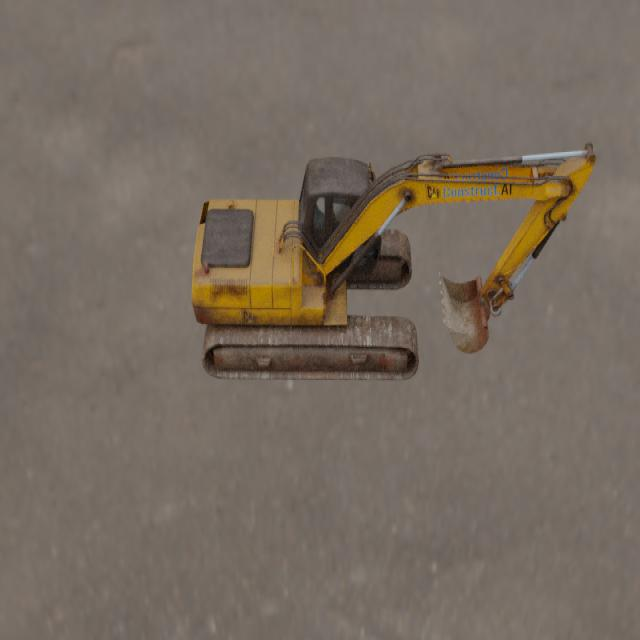excavator: (190, 140, 596, 380)
